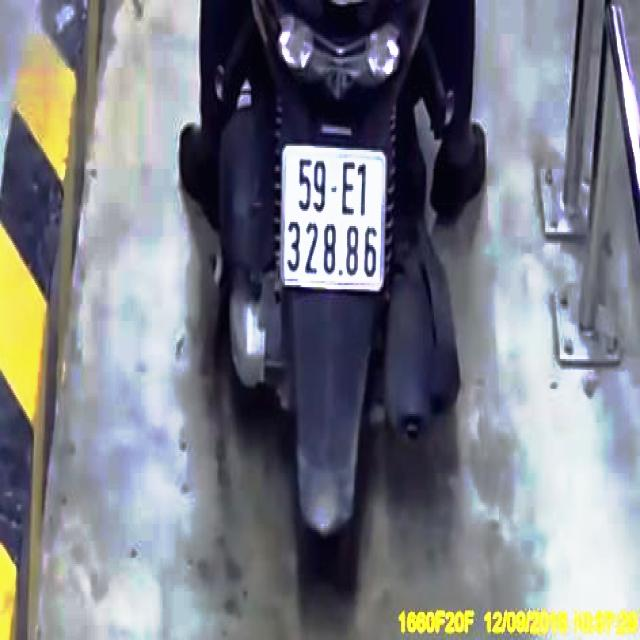license_plate: (280, 149, 386, 292)
